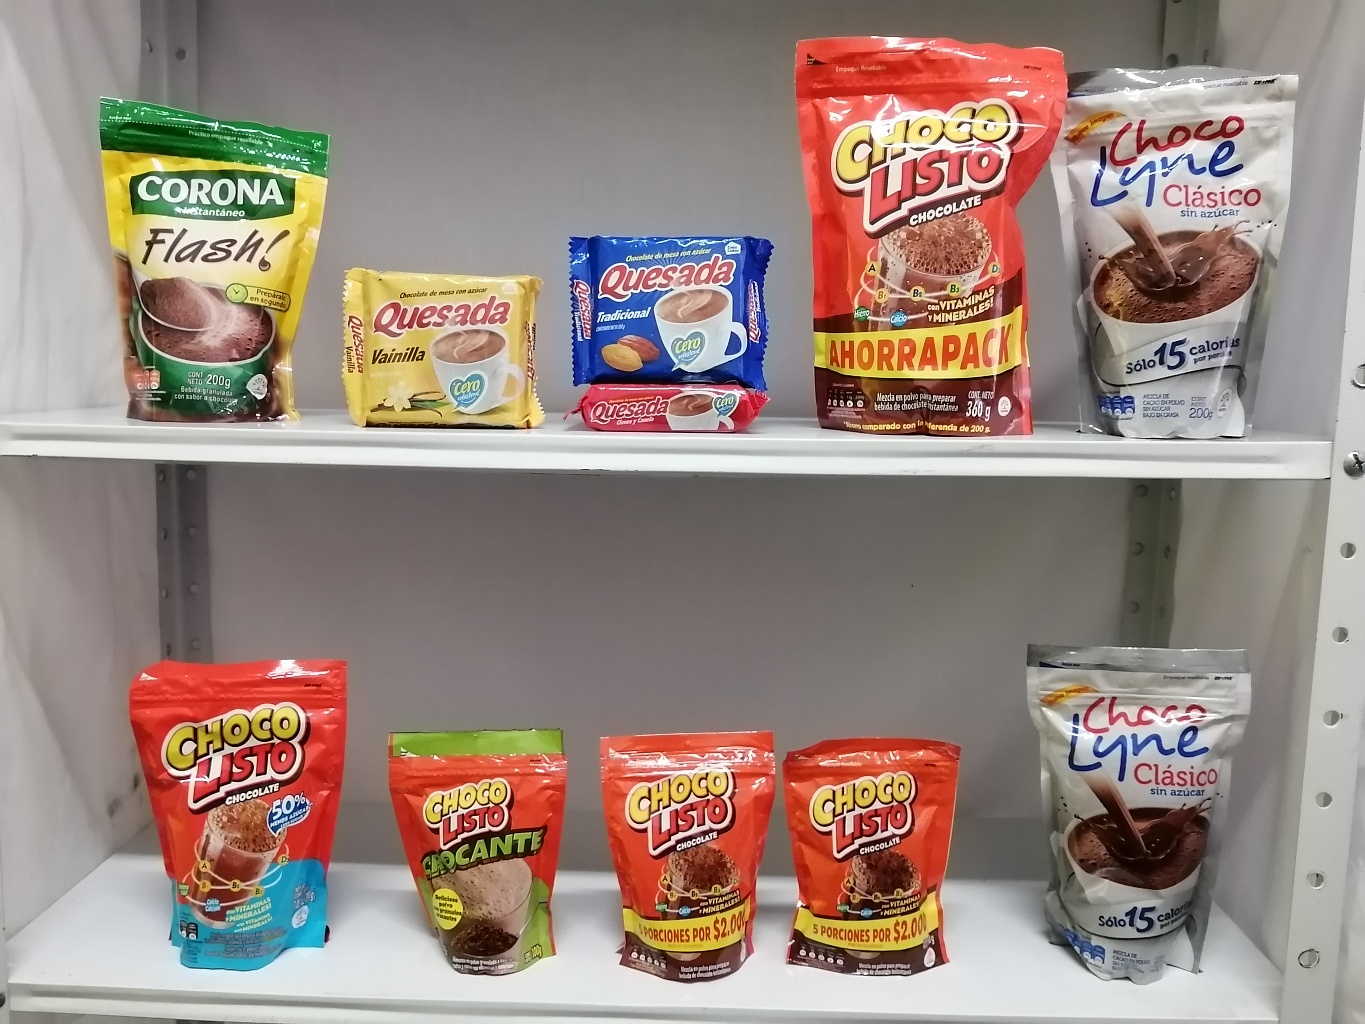COL0170102DYP10000: (376, 696, 579, 984)
COL0170103DYP36000: (776, 22, 1073, 474)
COL0170104DYP20000: (109, 644, 356, 979)
